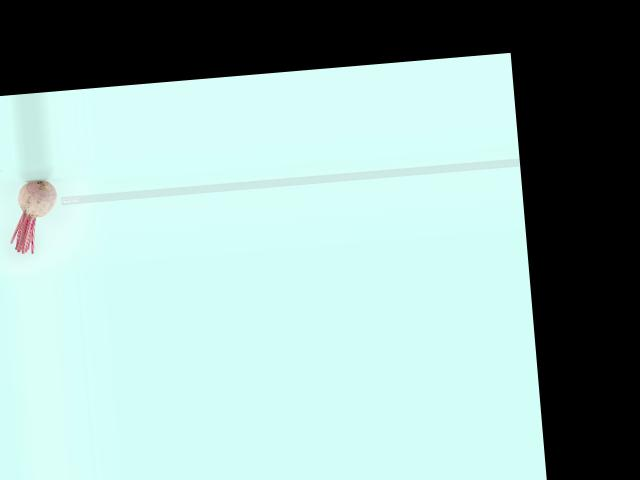beet: (6, 178, 62, 255)
